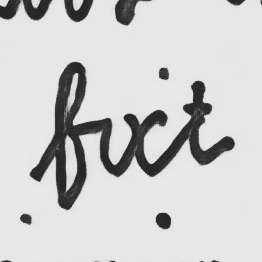f: (48, 59, 92, 212)
i: (94, 111, 115, 177)
t: (179, 75, 227, 167)
x: (119, 106, 168, 178)
